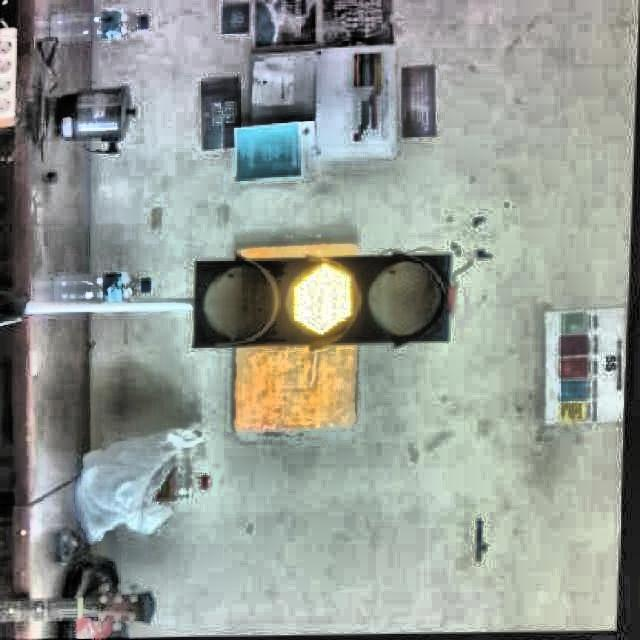yellow: (199, 252, 460, 350)
